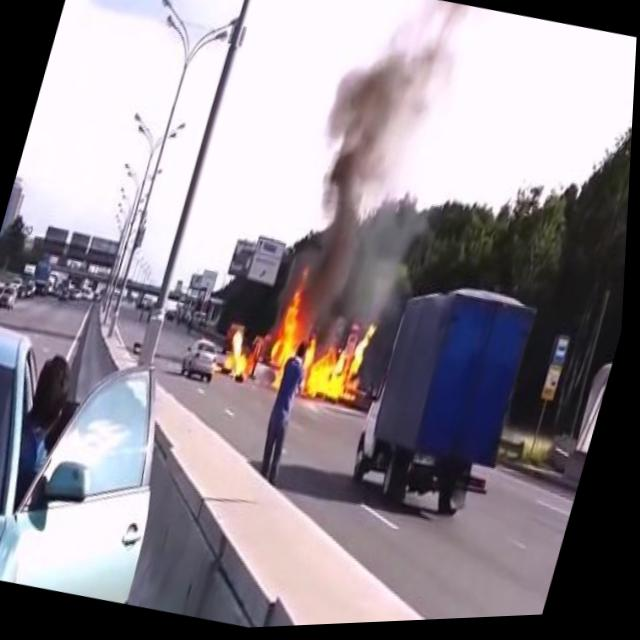fire: (259, 261, 391, 416), (220, 321, 262, 381)
